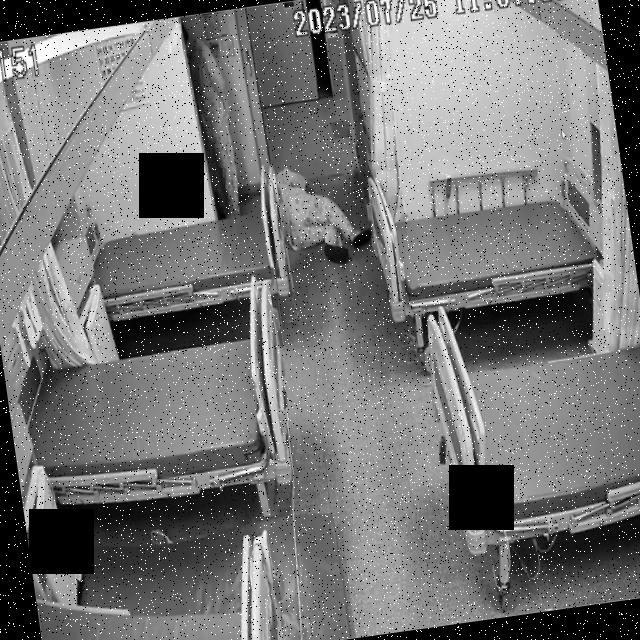bed: (419, 279, 640, 552), (17, 324, 299, 512), (366, 173, 614, 323), (89, 198, 290, 320)
fall: (274, 149, 376, 274)
patient: (183, 12, 245, 220), (275, 150, 373, 272)
